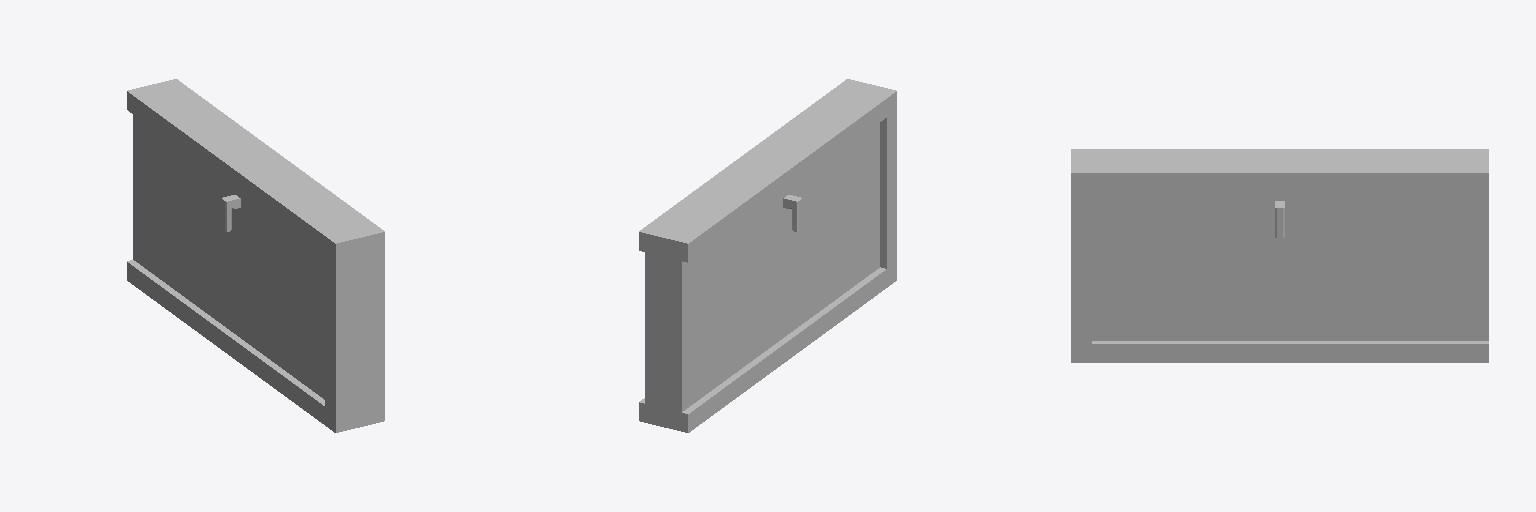
The model's file is door.obj.
3 views of the same model, side by side, from view 1: azimuth 30°, elevation 25°; view 2: azimuth 150°, elevation 25°; view 3: azimuth 270°, elevation 25° (orthographic).
Visible parts, largest first — view 1: Cube, Cube.001; view 2: Cube.001, Cube; view 3: Cube.001, Cube.
Boxes of the visible parts, box(x1,y1,x2,y2) form: Cube: box(127, 79, 384, 432); Cube.001: box(133, 115, 324, 399); Cube.001: box(645, 123, 879, 412); Cube: box(639, 79, 896, 432); Cube.001: box(1092, 192, 1488, 340); Cube: box(1071, 149, 1488, 362).
Size of the model in its own units: 1.45 by 4 by 8.